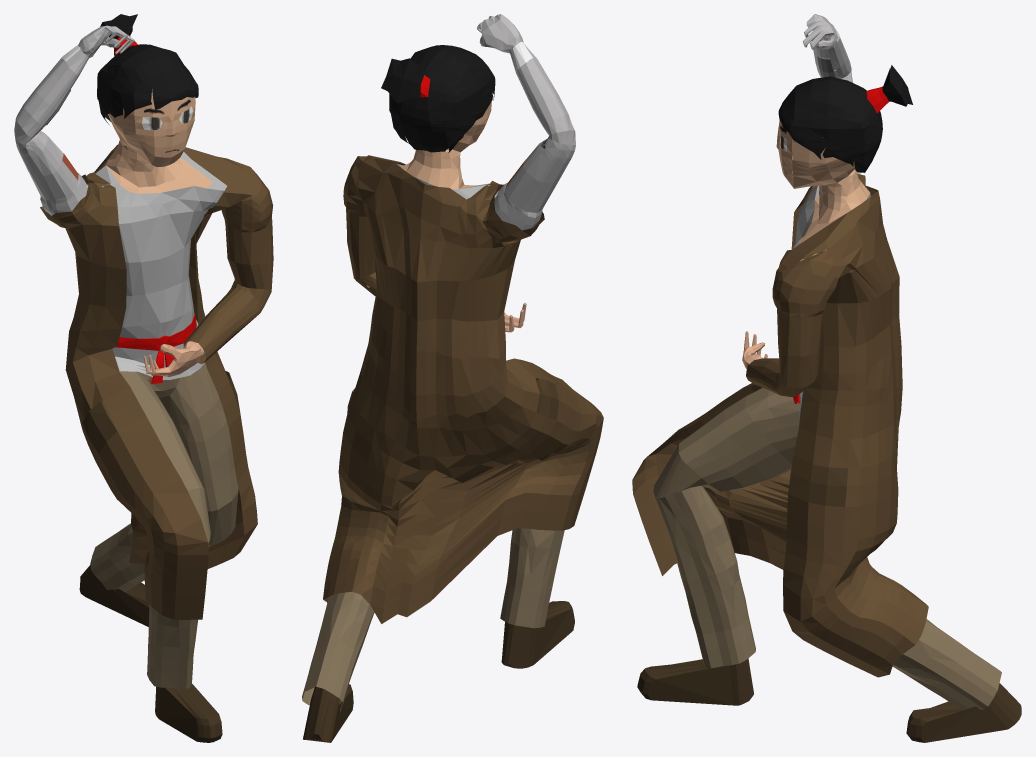
The model's file is Special_Attack_000019.obj.
The picture shows the model from 3 angles, left to right: view 1: azimuth 30°, elevation 25°; view 2: azimuth 150°, elevation 25°; view 3: azimuth 270°, elevation 25°; orthographic projection. The views are drawn at different scales.
Visible parts, largest first — view 1: Hair_Cube.004; view 2: Hair_Cube.004; view 3: Hair_Cube.004.
Part boxes in pixels (x1,y1,x2,y2): Hair_Cube.004: [14, 14, 273, 742]; Hair_Cube.004: [302, 14, 603, 742]; Hair_Cube.004: [632, 14, 1021, 742].
Size of the model in its own units: 1.34 by 3.63 by 1.9.
